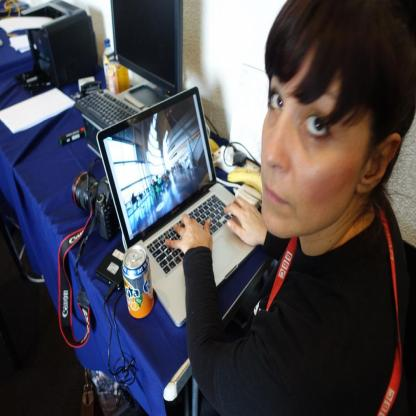board: (96, 86, 258, 326), (123, 244, 154, 318), (102, 37, 116, 89)
